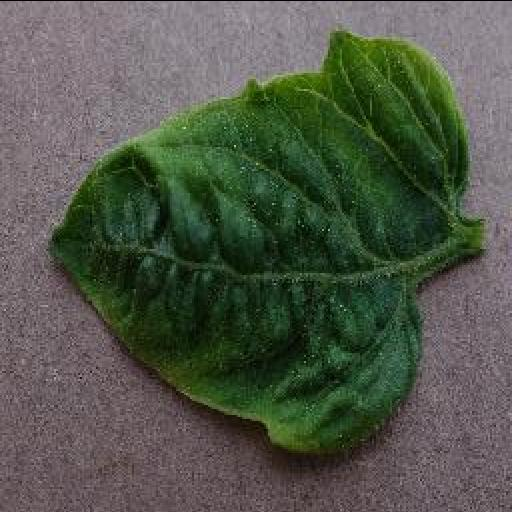disease_tomato: (46, 25, 464, 453)
